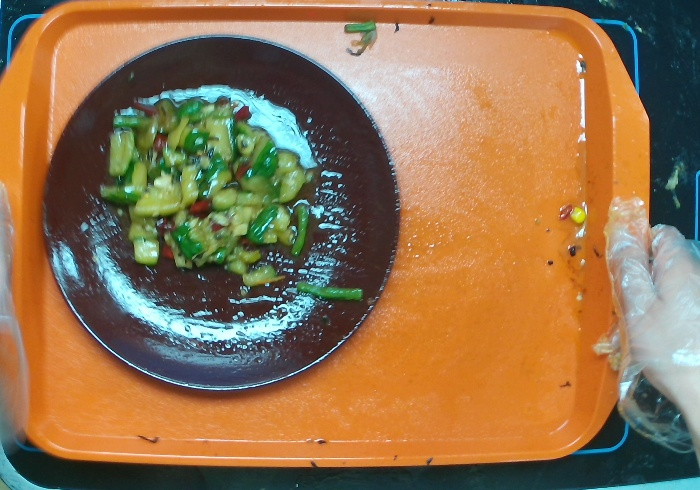HZYJPL-Ka_Fei_Yuan_Pan: (37, 31, 403, 395)
